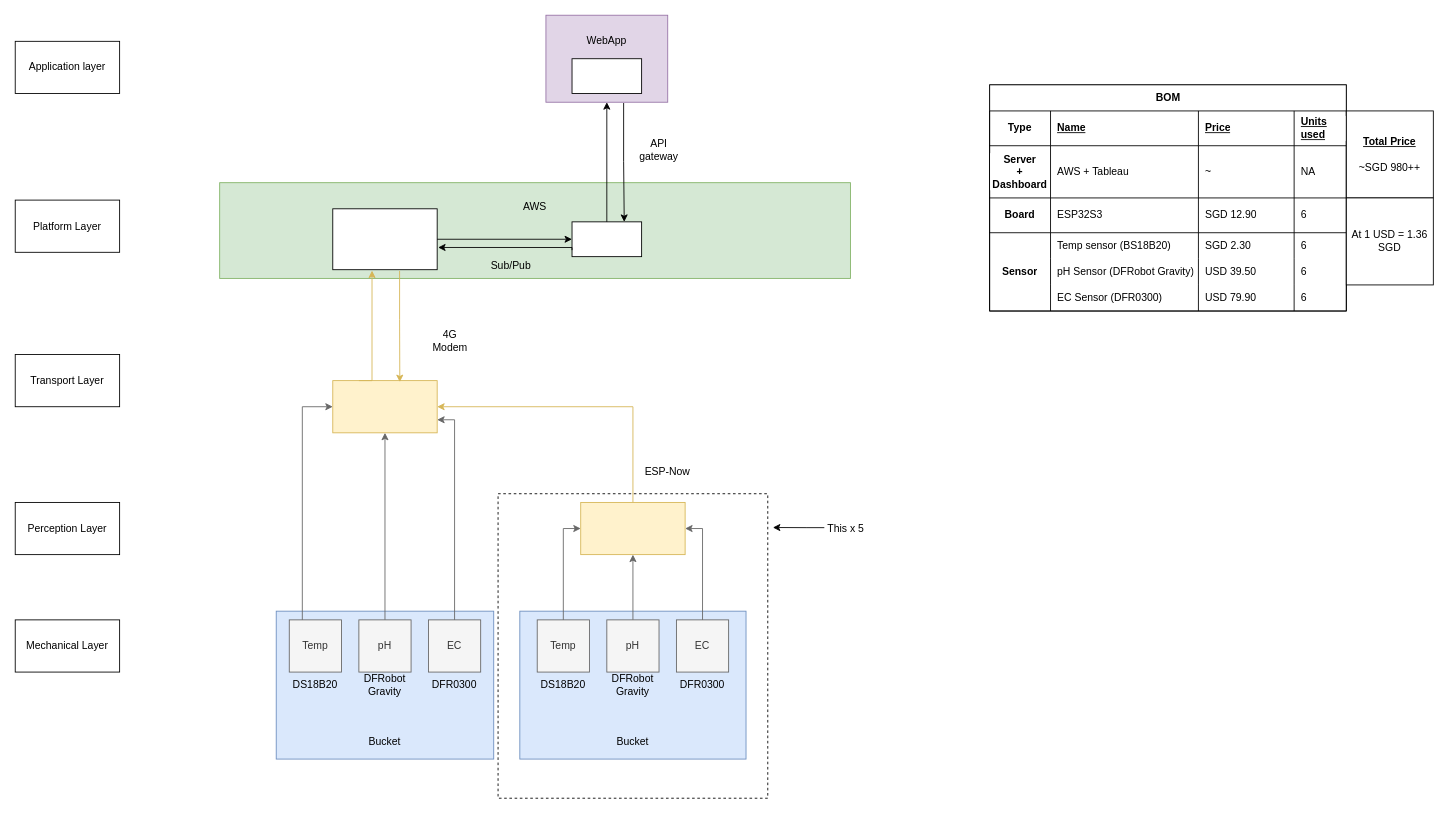
Some shapes in this 1449 by 813 pixel diagram are drawn without their labels. The shapes that lost their labels are listed below. From the top down, each one's centre as x and y in pixels, then its label:
At [606,76]: "Tableau".
At [384,239]: "MQTT broker".
At [606,239]: "DynamoDB".
At [384,406]: "ESP32 Master".
At [632,528]: "ESP32 Node".
